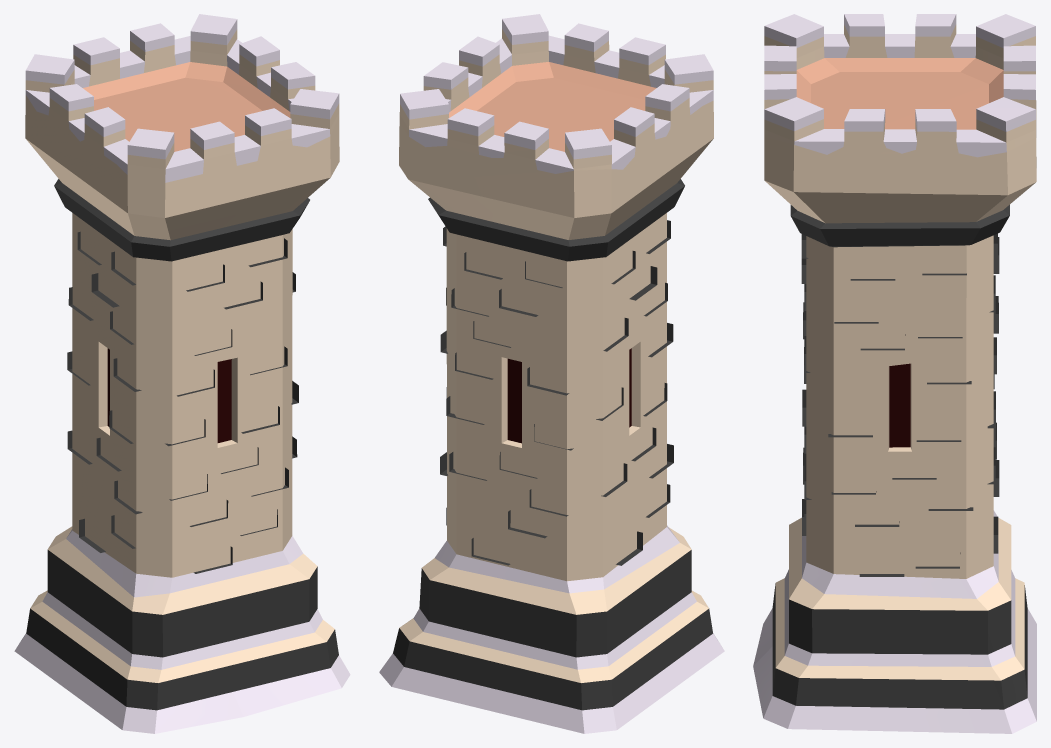
File: winter_castle_tower1.glb
The picture shows the model from 3 angles, left to right: view 1: azimuth 30°, elevation 25°; view 2: azimuth 150°, elevation 25°; view 3: azimuth 270°, elevation 25°; orthographic projection. The views are drawn at different scales.
Parts seen in each view (by area): view 1: Tower1_Medieval_0; view 2: Tower1_Medieval_0; view 3: Tower1_Medieval_0.
Part boxes in pixels (left/top/right/bottom): Tower1_Medieval_0: left=14, top=14, right=350, bottom=733; Tower1_Medieval_0: left=379, top=14, right=724, bottom=733; Tower1_Medieval_0: left=753, top=14, right=1036, bottom=733.
Size of the model in its own units: 4.38 by 10.23 by 4.36.
Materials: 1 (1 with a texture image).
